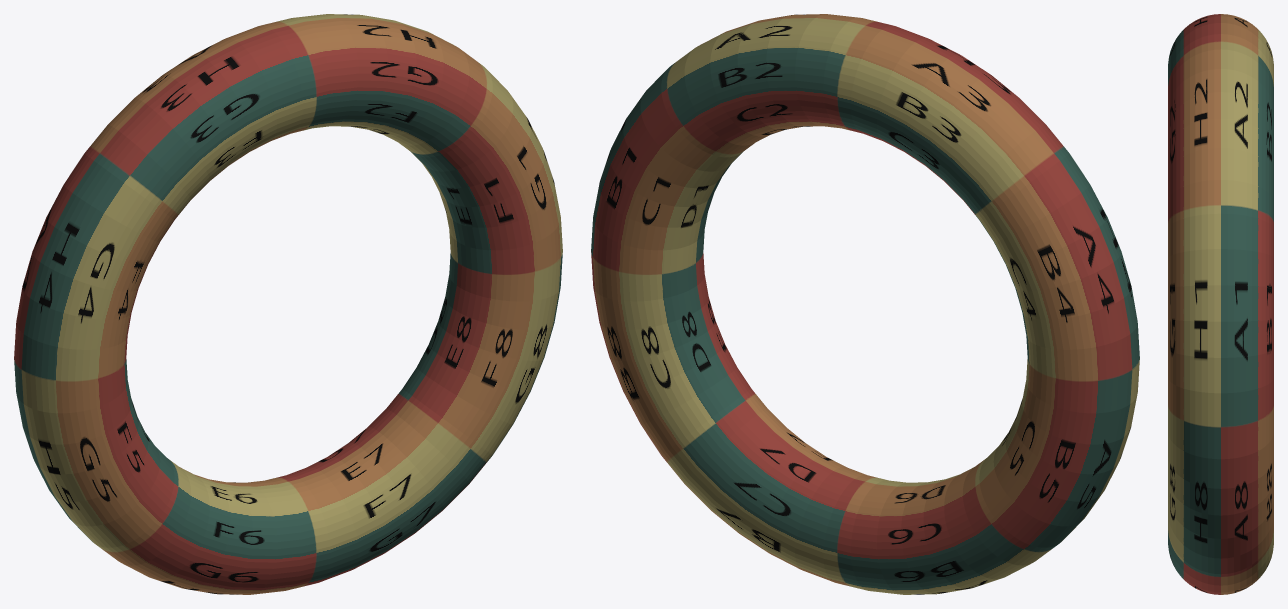
The model's file is texture_torus_R20_r12.glb.
3 views of the same model, side by side, from view 1: azimuth 30°, elevation 25°; view 2: azimuth 150°, elevation 25°; view 3: azimuth 270°, elevation 25° (orthographic). The views are drawn at different scales.
Visible parts, largest first — view 1: world; view 2: world; view 3: world.
Part boxes in pixels (box(x1,y1,x2,y2)): world: box(14, 14, 562, 594); world: box(591, 14, 1139, 594); world: box(1168, 14, 1273, 594).
Size of the model in its own units: 28.53 by 28.48 by 5.19.
1 material, 1 textured.
